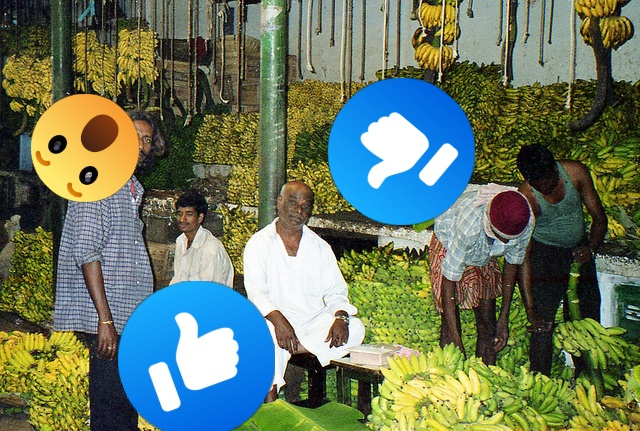like: (118, 281, 275, 431), (328, 78, 475, 225)
wow: (31, 94, 139, 202)
